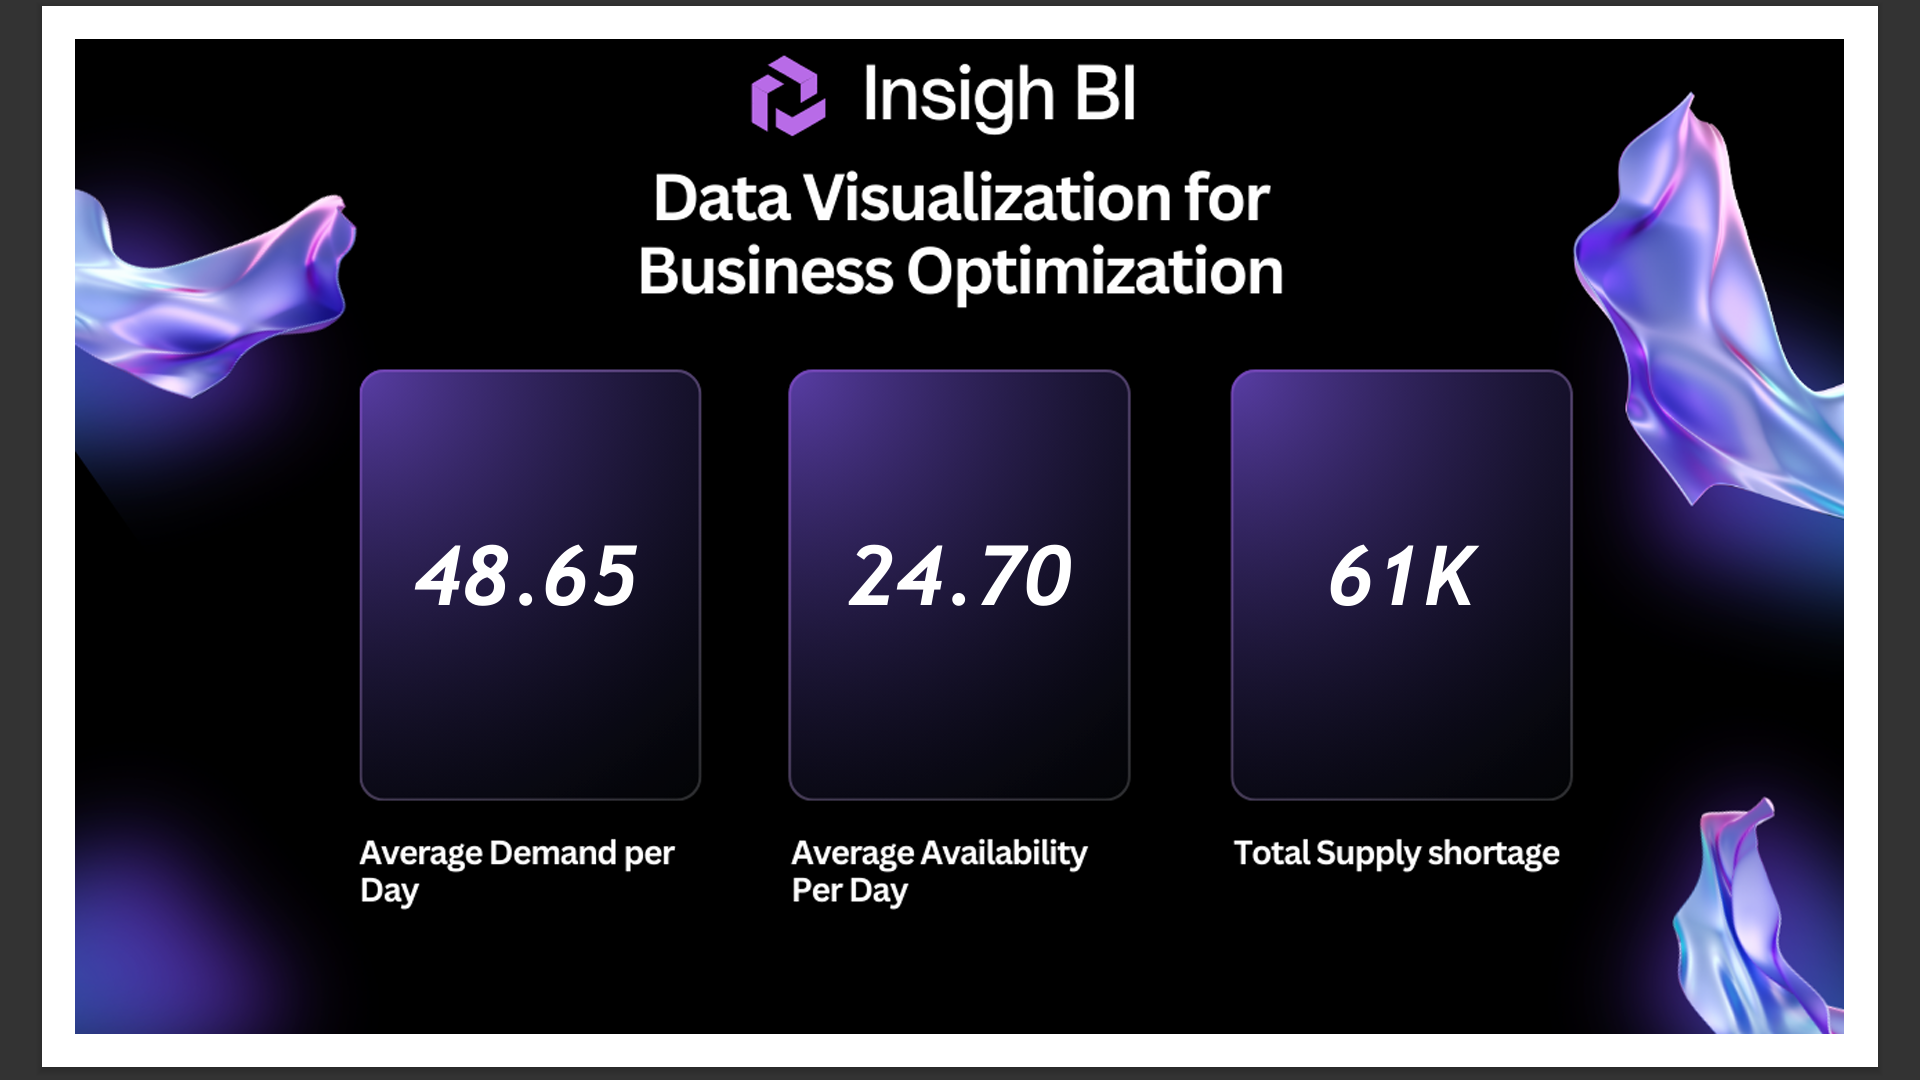

The dashboard page shown, as its layout file describes it:
{"tool":"powerbi","page":{"name":"Page 1","canvas":[1280,720],"ordinal":0},"visuals":[{"type":"card","fields":{"Values":["Measures Table.Average Demand Per Day"]},"box":[218.4,254.6,224.4,266.6],"z":0},{"type":"card","fields":{"Values":["Measures Table.Average Avalability Per Day"]},"box":[527.2,254.6,224.4,266.6],"z":1000},{"type":"card","fields":{"Values":["Measures Table.Total Supply Shortage"]},"box":[850.5,254.6,224.4,266.6],"z":2000}]}

Visuals, with their boxes in screenshot pixels (x1, y1, x2, y2), scaled from the page's 1280x720 canvas onto the 1920x1080 screenshot:
card - Measures Table.Average Demand Per Day: (left=328, top=382, right=664, bottom=782)
card - Measures Table.Average Avalability Per Day: (left=791, top=382, right=1127, bottom=782)
card - Measures Table.Total Supply Shortage: (left=1276, top=382, right=1612, bottom=782)
